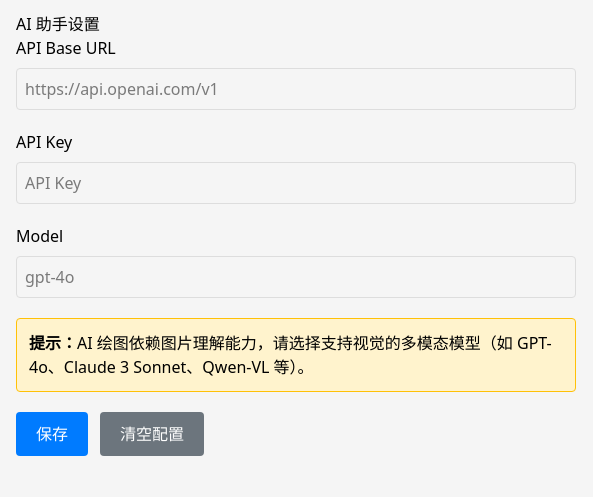
Test case: SettingsPage › API Key 输入后以掩码展示当前值，不泄露完整密钥
This screenshot has width=593, height=497.
Type "sk-abcd1234567890efgh" into the password field labelled "API Key". click: (296, 183)
box: [16,162,576,204]
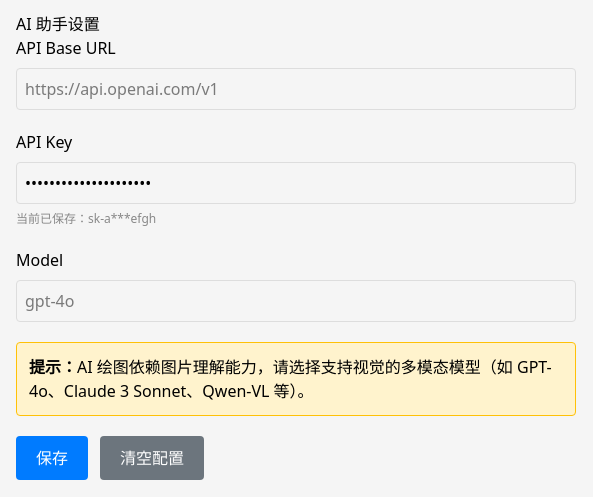
Now the text "当前已保存：sk-a***efgh" is shown, box [16,210,156,227]
